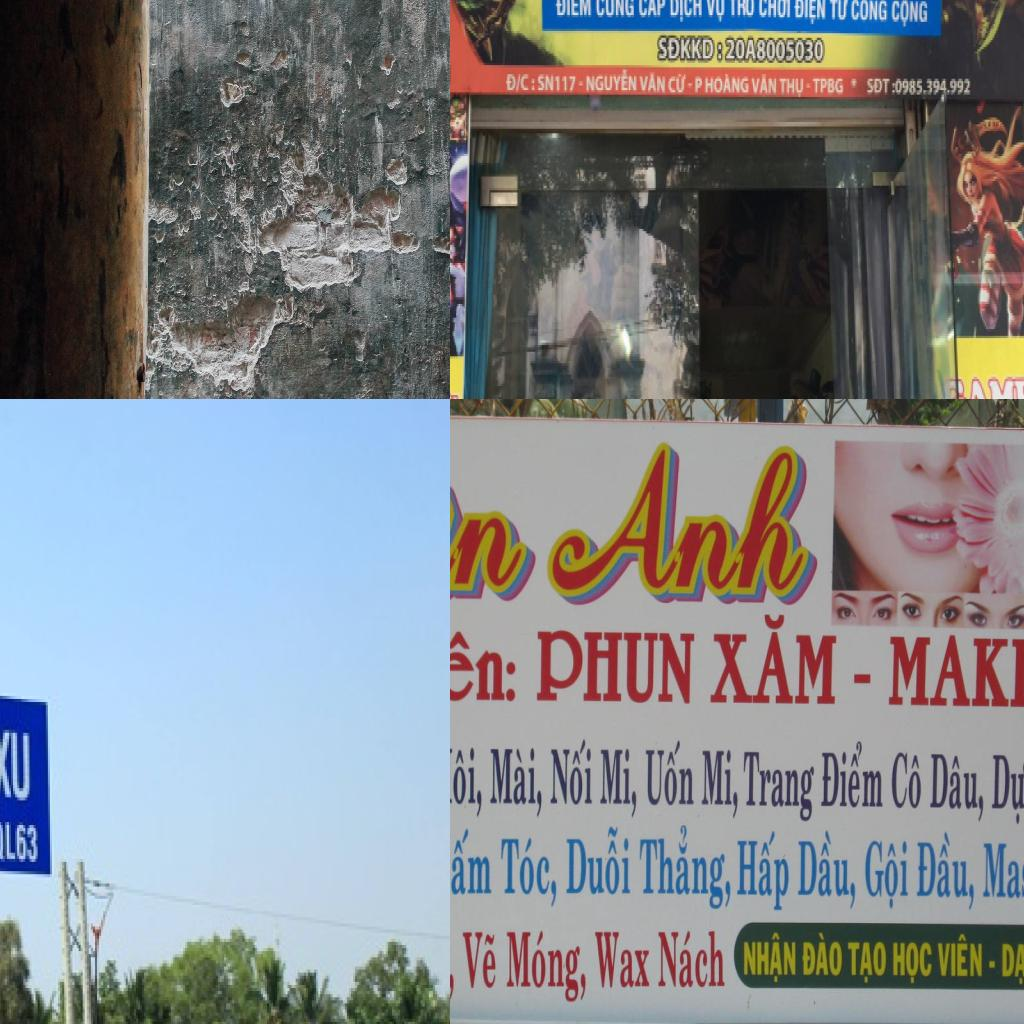text: (538, 442, 824, 604), (450, 441, 544, 603), (535, 628, 697, 707), (709, 614, 840, 706), (887, 635, 1024, 714), (636, 822, 734, 908), (450, 621, 519, 728), (504, 930, 593, 1004), (744, 750, 814, 826), (795, 828, 859, 911), (914, 828, 976, 913), (564, 825, 631, 897), (820, 734, 884, 808), (738, 828, 790, 916), (500, 834, 560, 908), (928, 752, 986, 824), (658, 929, 726, 989), (489, 747, 544, 821), (863, 834, 910, 916), (594, 930, 651, 989), (646, 741, 696, 806), (982, 840, 1024, 917), (725, 36, 826, 68), (549, 739, 594, 808), (450, 824, 492, 896), (599, 748, 638, 823), (743, 934, 798, 986), (0, 726, 33, 806), (701, 748, 739, 817), (990, 752, 1024, 827), (450, 745, 484, 818), (936, 932, 983, 980), (656, 33, 724, 65), (463, 932, 498, 993), (942, 374, 1024, 399), (801, 931, 845, 976), (891, 940, 933, 986), (891, 750, 923, 810), (847, 939, 887, 984), (585, 65, 639, 95), (894, 79, 972, 99), (890, 0, 929, 33), (706, 72, 750, 97), (1000, 942, 1024, 987), (538, 72, 578, 95), (793, 0, 828, 26), (668, 0, 704, 24), (850, 0, 888, 21), (553, 0, 592, 19), (596, 0, 635, 19), (813, 74, 845, 97), (778, 76, 806, 102), (750, 72, 778, 97), (759, 0, 792, 21), (639, 70, 667, 94), (864, 76, 896, 97), (667, 70, 689, 99), (506, 72, 535, 92), (638, 0, 666, 19), (728, 0, 755, 19), (705, 0, 726, 24), (828, 0, 850, 22), (693, 74, 704, 97)
